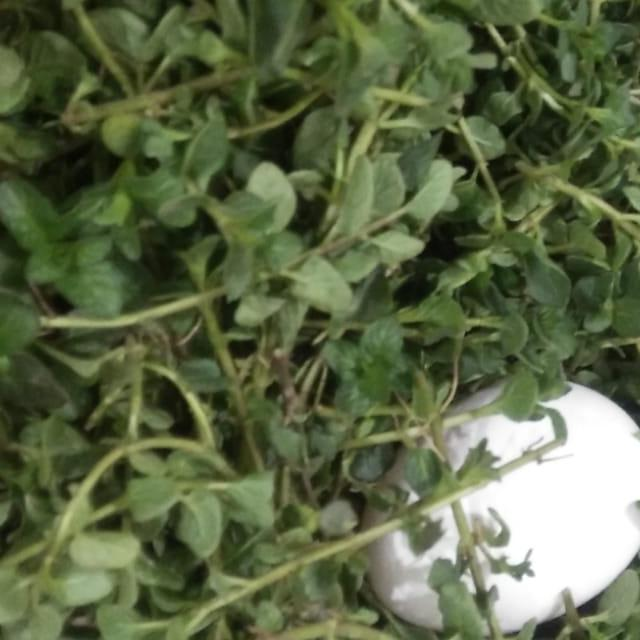egg: (358, 373, 640, 637)
